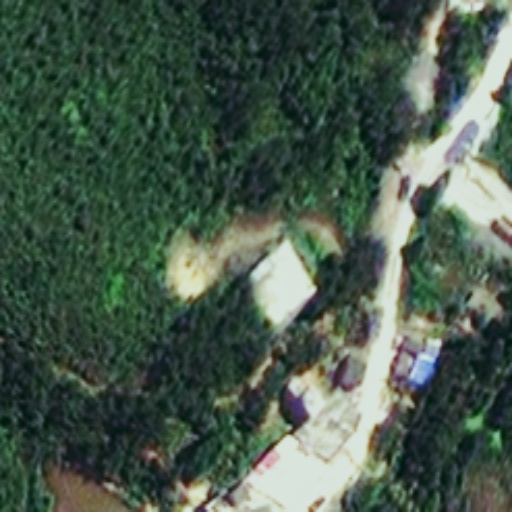landslide: (160, 214, 340, 302)
